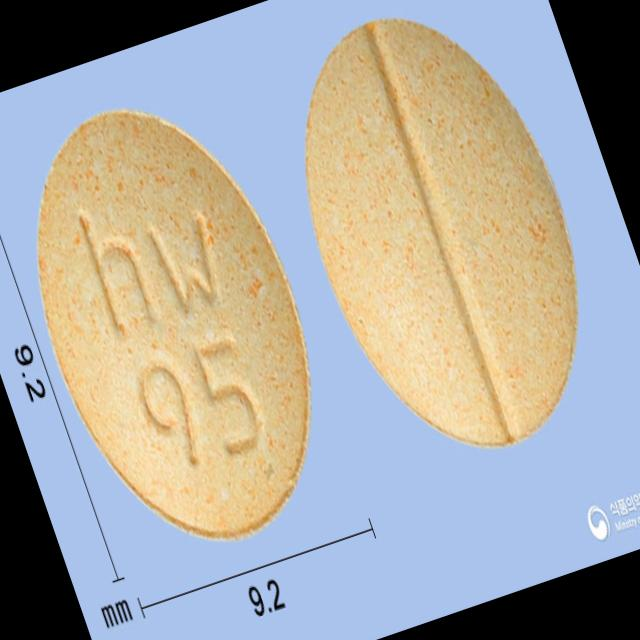Doxy: (0, 70, 366, 578)
